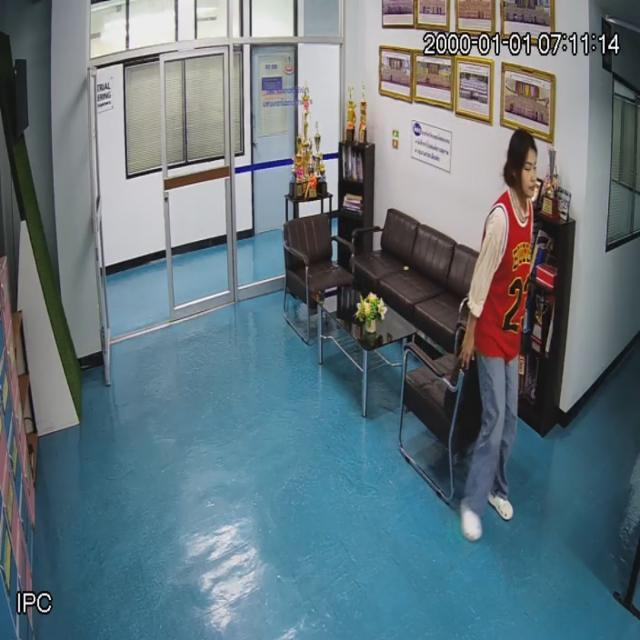normal: (465, 126, 536, 540)
